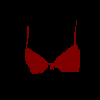reggiseno: (25, 20, 80, 74)
